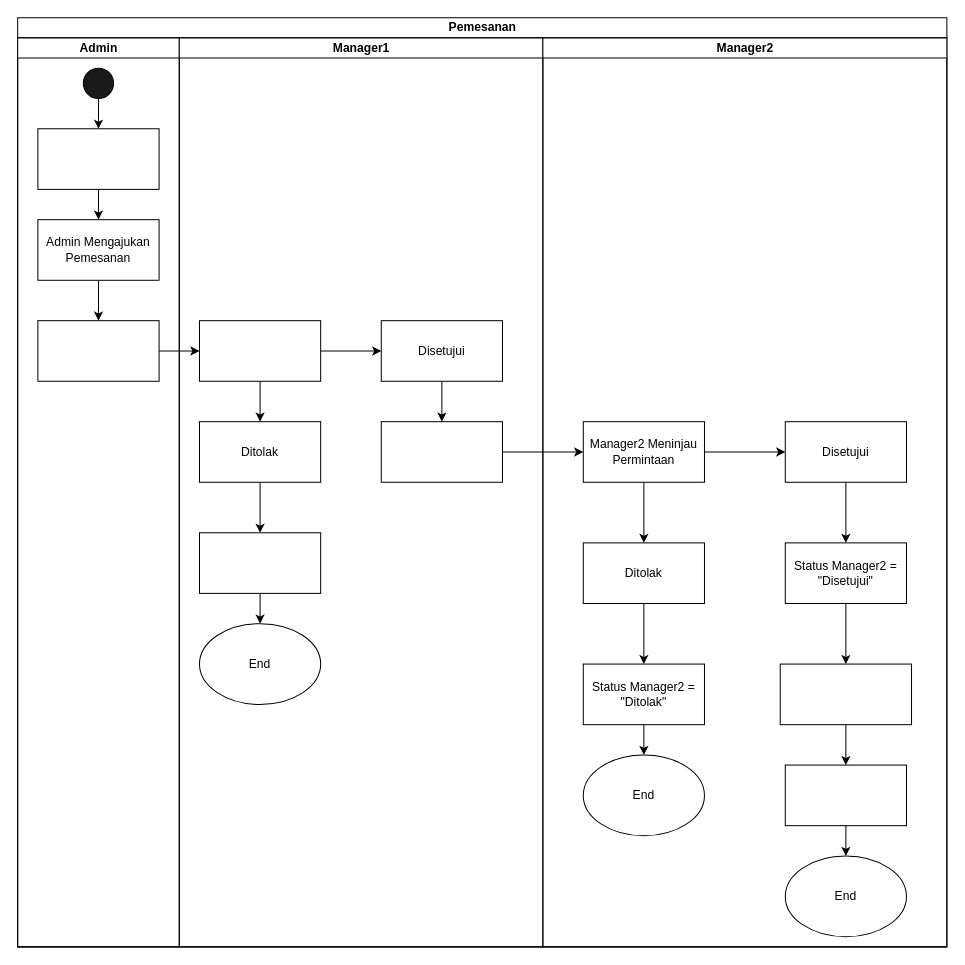
This 965x965 diagram has some shape labels left out. The shapes that lost their labels are listed below. From the top down, each one's centre as x and y in pixels, then its label:
point (98, 158): Admin Memilih Kendaraan dan Driver
point (98, 350): Status Pemesanan = "Pengajuan"
point (259, 350): Manager1 Meninjau Permintaan
point (441, 451): Status Manager1 = "Disetujui"
point (259, 562): Status Manager1 = "Ditolak"
point (845, 694): Update Status Kendaraan dan Driver
point (845, 795): - Kendaraan: status = "tidak tersedia" - Driver: status = "tidak tersedia"
